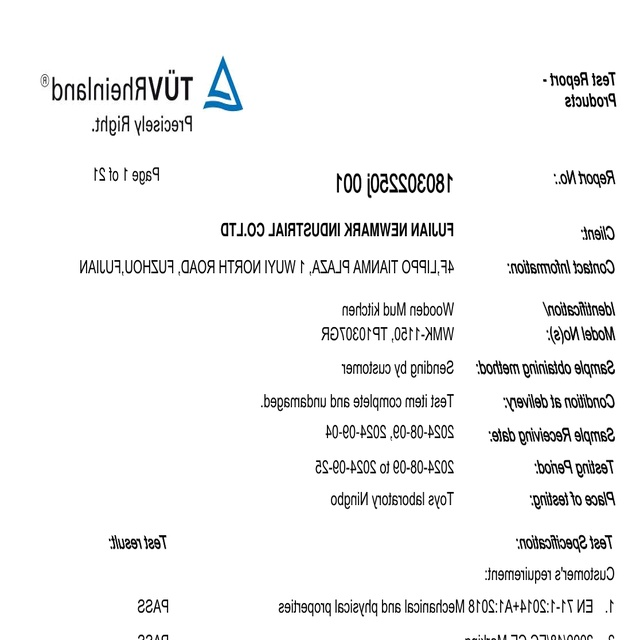tuv_rheinland: (39, 56, 246, 115)
